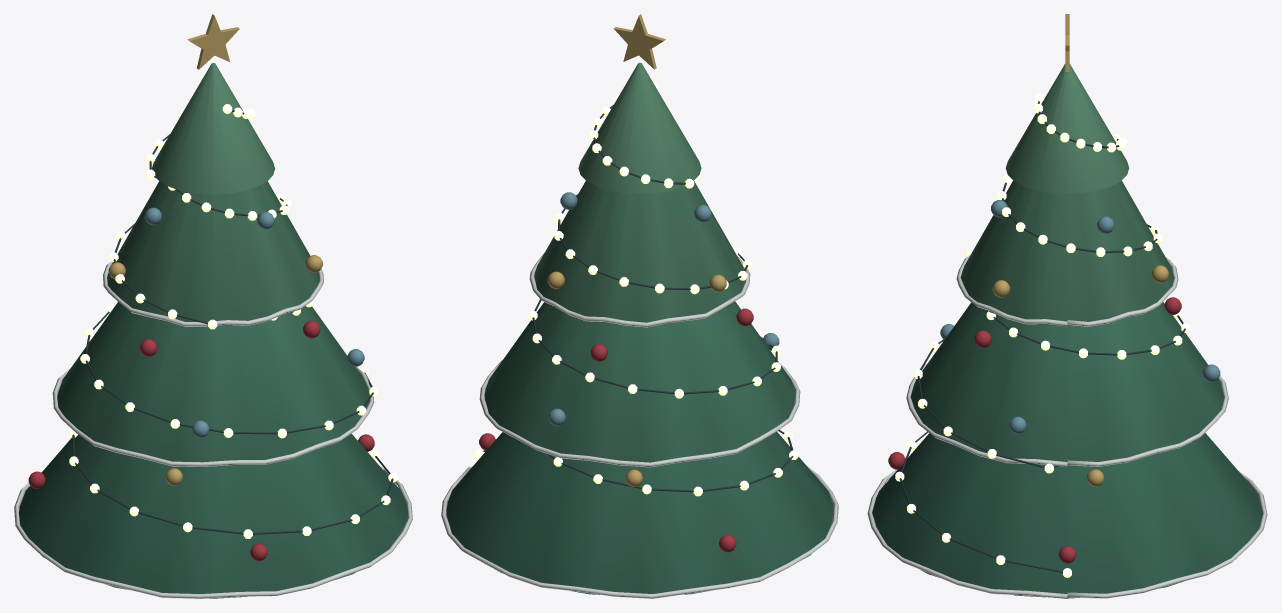
File: landmark_winter_tree.glb
The picture shows the model from 3 angles, left to right: view 1: azimuth 30°, elevation 25°; view 2: azimuth 150°, elevation 25°; view 3: azimuth 270°, elevation 25°; orthographic projection.
Bounding box in the file's own units: 5.17 × 8 × 5.17.
